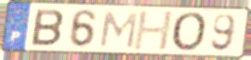6: (67, 8, 99, 50)
9: (210, 13, 238, 53)
B: (28, 7, 66, 48)
H: (131, 10, 176, 52)
M: (98, 10, 141, 50)
O: (170, 10, 210, 53)
